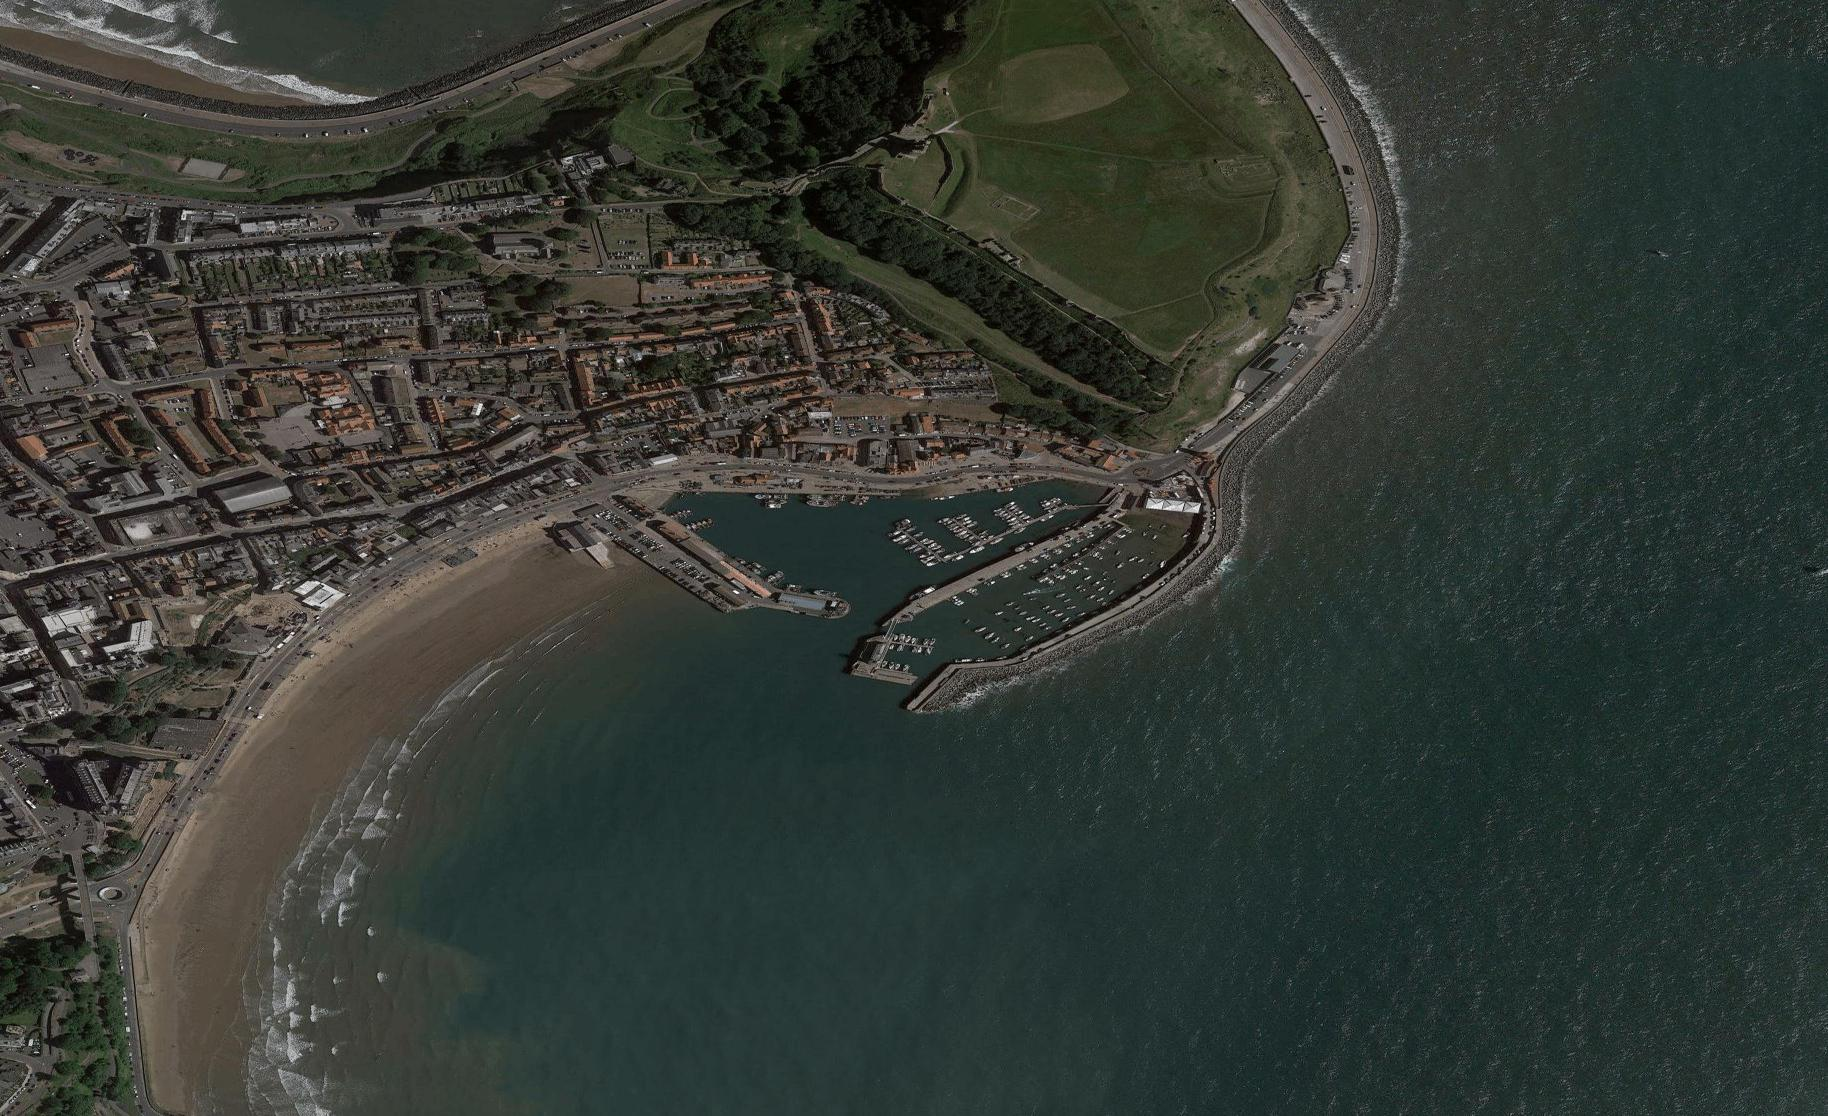harbor: (605, 475, 1251, 730)
motorway: (1218, 292, 1353, 432), (1, 57, 195, 129), (385, 57, 541, 134), (1317, 106, 1381, 292), (537, 1, 693, 77), (1227, 1, 1338, 104), (197, 101, 389, 138)
